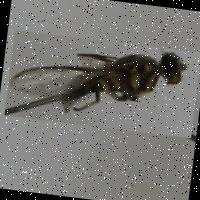Oriental-fruit-fly: (4, 30, 200, 138)
